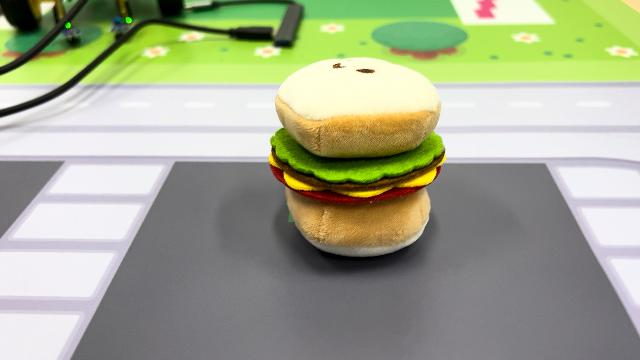sandwich: (266, 54, 448, 258)
